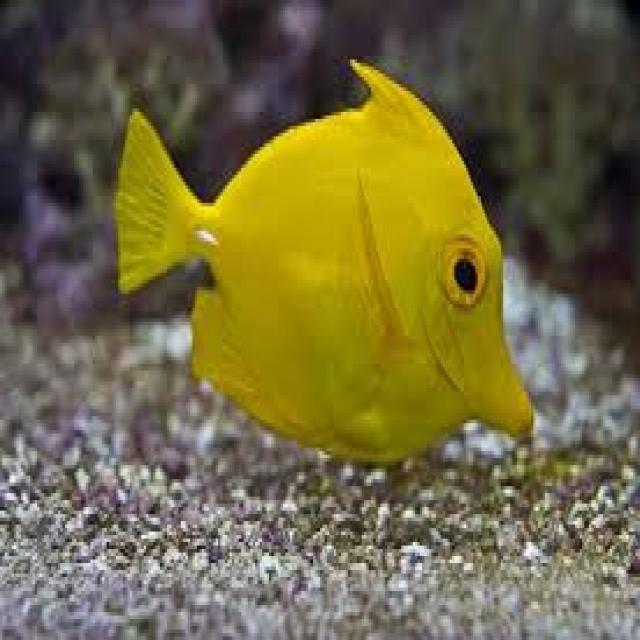TangFish: (104, 57, 533, 466)
